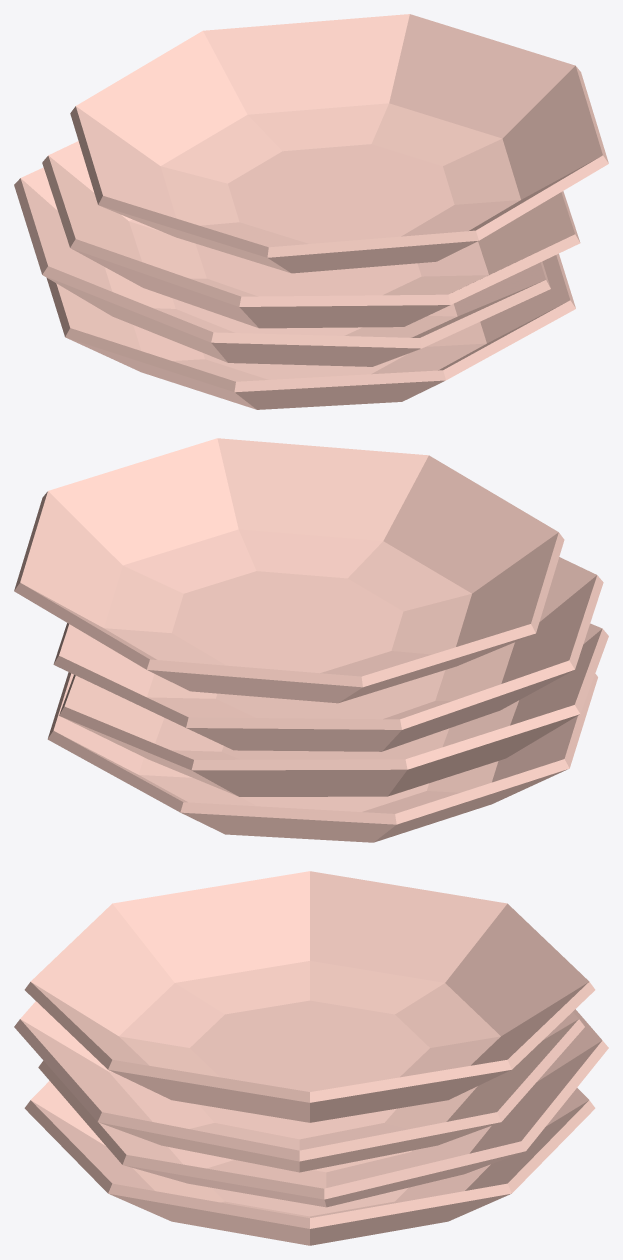
Rendered from Plate M .glb.
The picture shows the model from 3 angles, top to bottom: view 1: azimuth 30°, elevation 25°; view 2: azimuth 150°, elevation 25°; view 3: azimuth 270°, elevation 25°; orthographic projection. The views are drawn at different scales.
Visible parts, largest first — view 1: Plates S; view 2: Plates S; view 3: Plates S.
Part boxes in pixels (x1,y1,x2,y2): Plates S: (14,14,608,409); Plates S: (14,438,608,842); Plates S: (14,871,608,1245).
Size of the model in its own units: 0.5168 by 0.1973 by 0.4883.
